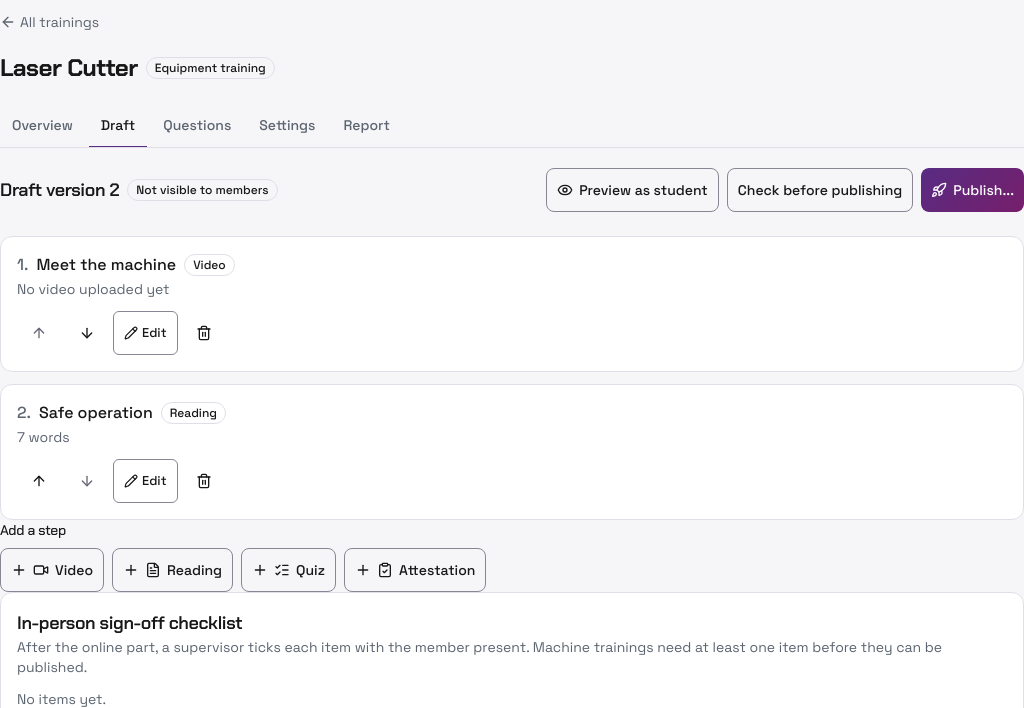
Test case: DraftEditor warnings › shows a long-video warning under its step in amber, not as a problem
Check: the heading "Laser Cutter" is shown, box [0,52,138,84]
Check: the heading "Draft version 2" is shown, box [0,176,119,204]
Click the button "Check before publishing".
click(820, 190)  # box [727,168,913,212]
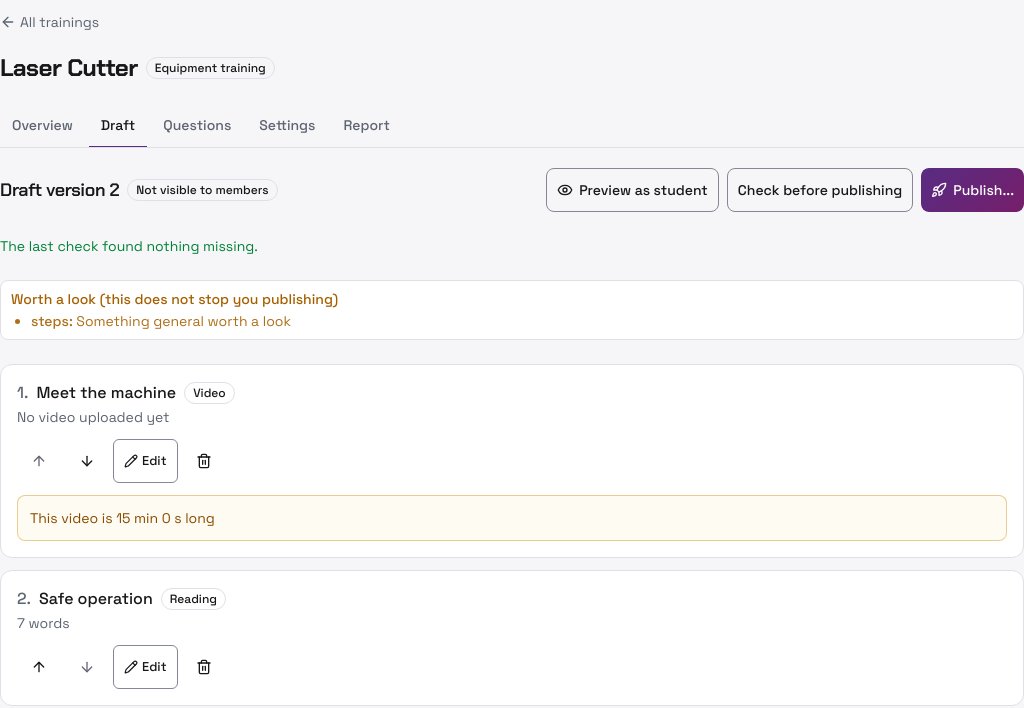
Check: the list named "Warnings" shows "15 min 0 s long", box [30,509,215,527]
Check: the list item "Something general worth a look" is shown, box [76,312,291,330]
Check: the text "The last check found nothing missing." is shown, box [0,237,258,255]
